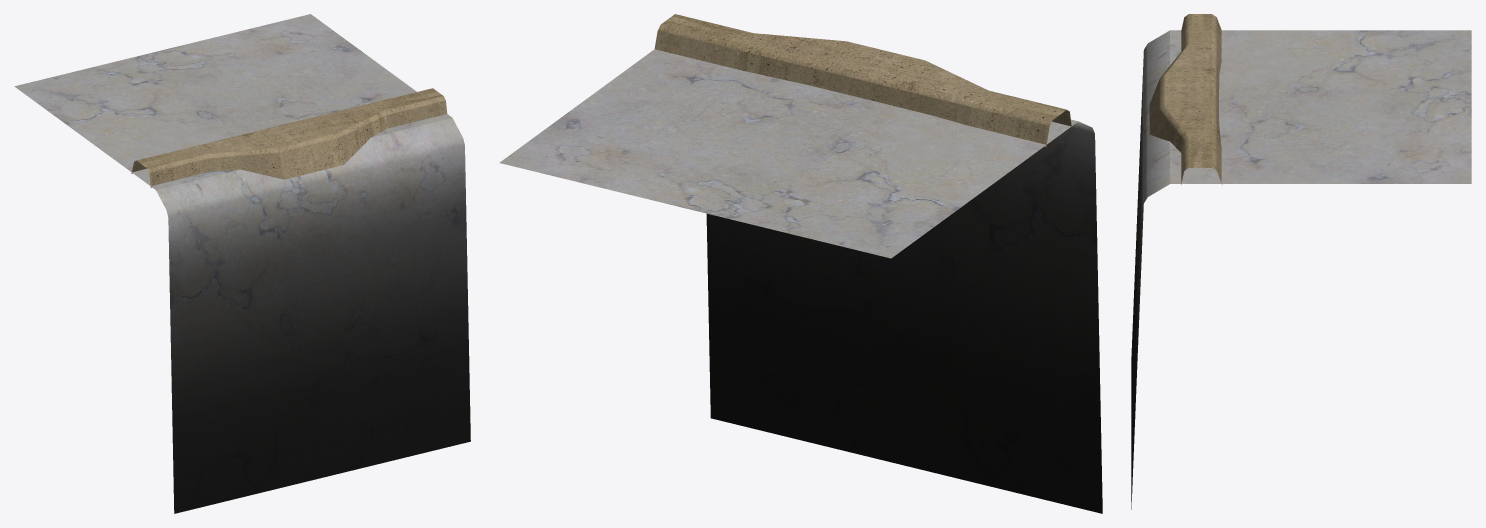
File: ground-tile-depth-1.fbx
3 views of the same model, side by side, from view 1: azimuth 30°, elevation 25°; view 2: azimuth 150°, elevation 25°; view 3: azimuth 270°, elevation 25° (orthographic). The views are drawn at different scales.
Visible parts, largest first — view 1: ground-tile-depth-1; view 2: ground-tile-depth-1; view 3: ground-tile-depth-1.
Part boxes in pixels (x1=…): ground-tile-depth-1: x1=14, y1=14, x2=470, y2=513; ground-tile-depth-1: x1=499, y1=14, x2=1102, y2=513; ground-tile-depth-1: x1=1131, y1=14, x2=1471, y2=509.
Size of the model in its own units: 200 by 210 by 187.
